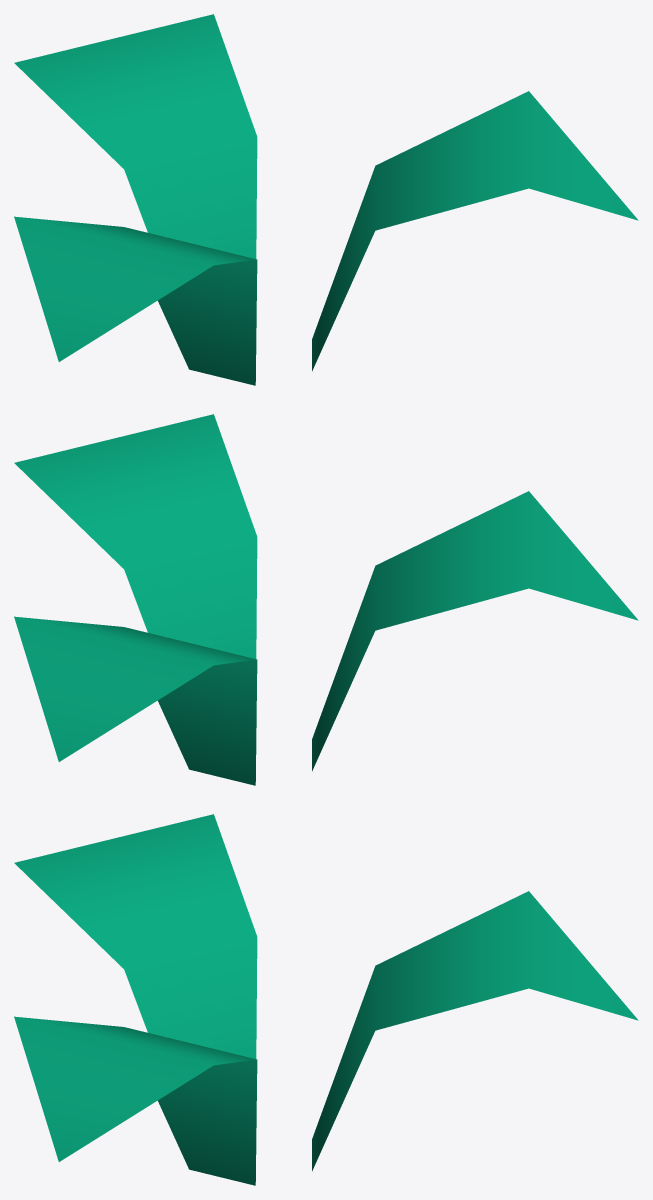
The model's file is Grass_1.fbx.
The picture shows the model from 3 angles, top to bottom: view 1: azimuth 30°, elevation 25°; view 2: azimuth 150°, elevation 25°; view 3: azimuth 270°, elevation 25°; orthographic projection.
Parts seen in each view (by area): view 1: mergedBlocks; view 2: mergedBlocks; view 3: mergedBlocks.
Boxes of the visible parts, x1,y1,x2,y2 form: mergedBlocks: (14,14,638,385); mergedBlocks: (14,414,638,785); mergedBlocks: (14,814,638,1185).
Size of the model in its own units: 7.47 by 2.66 by 6.97.
